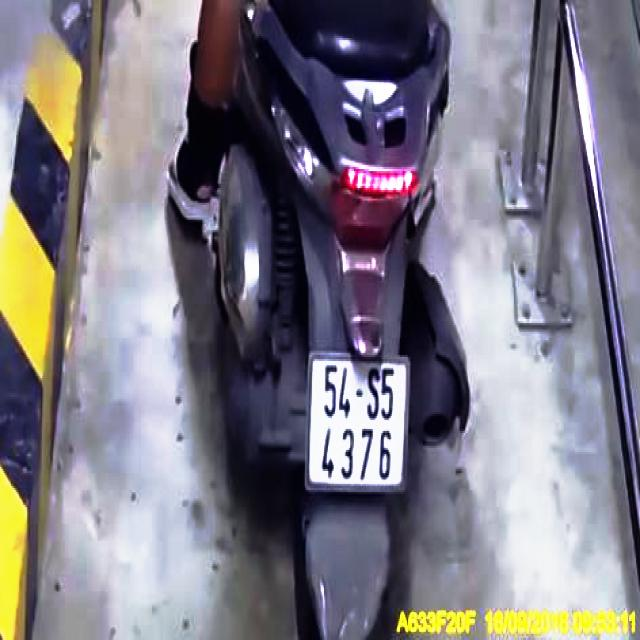license_plate: (309, 353, 409, 489)
